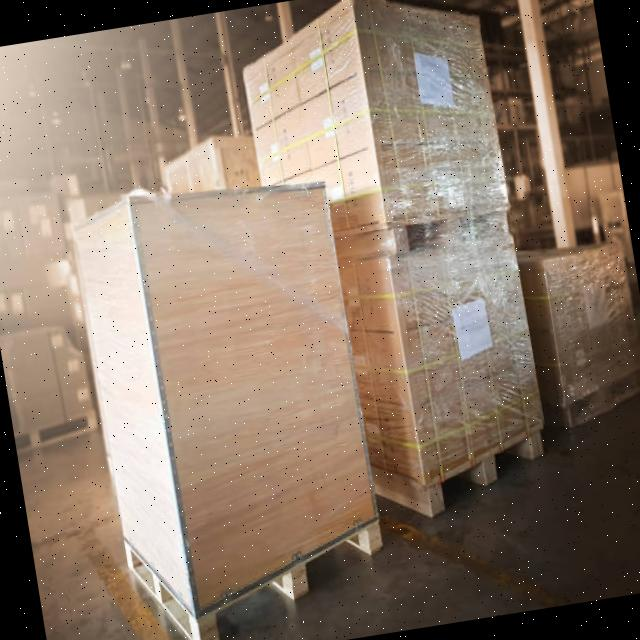Wooden-Pallets: (123, 513, 392, 640), (417, 403, 559, 529)
